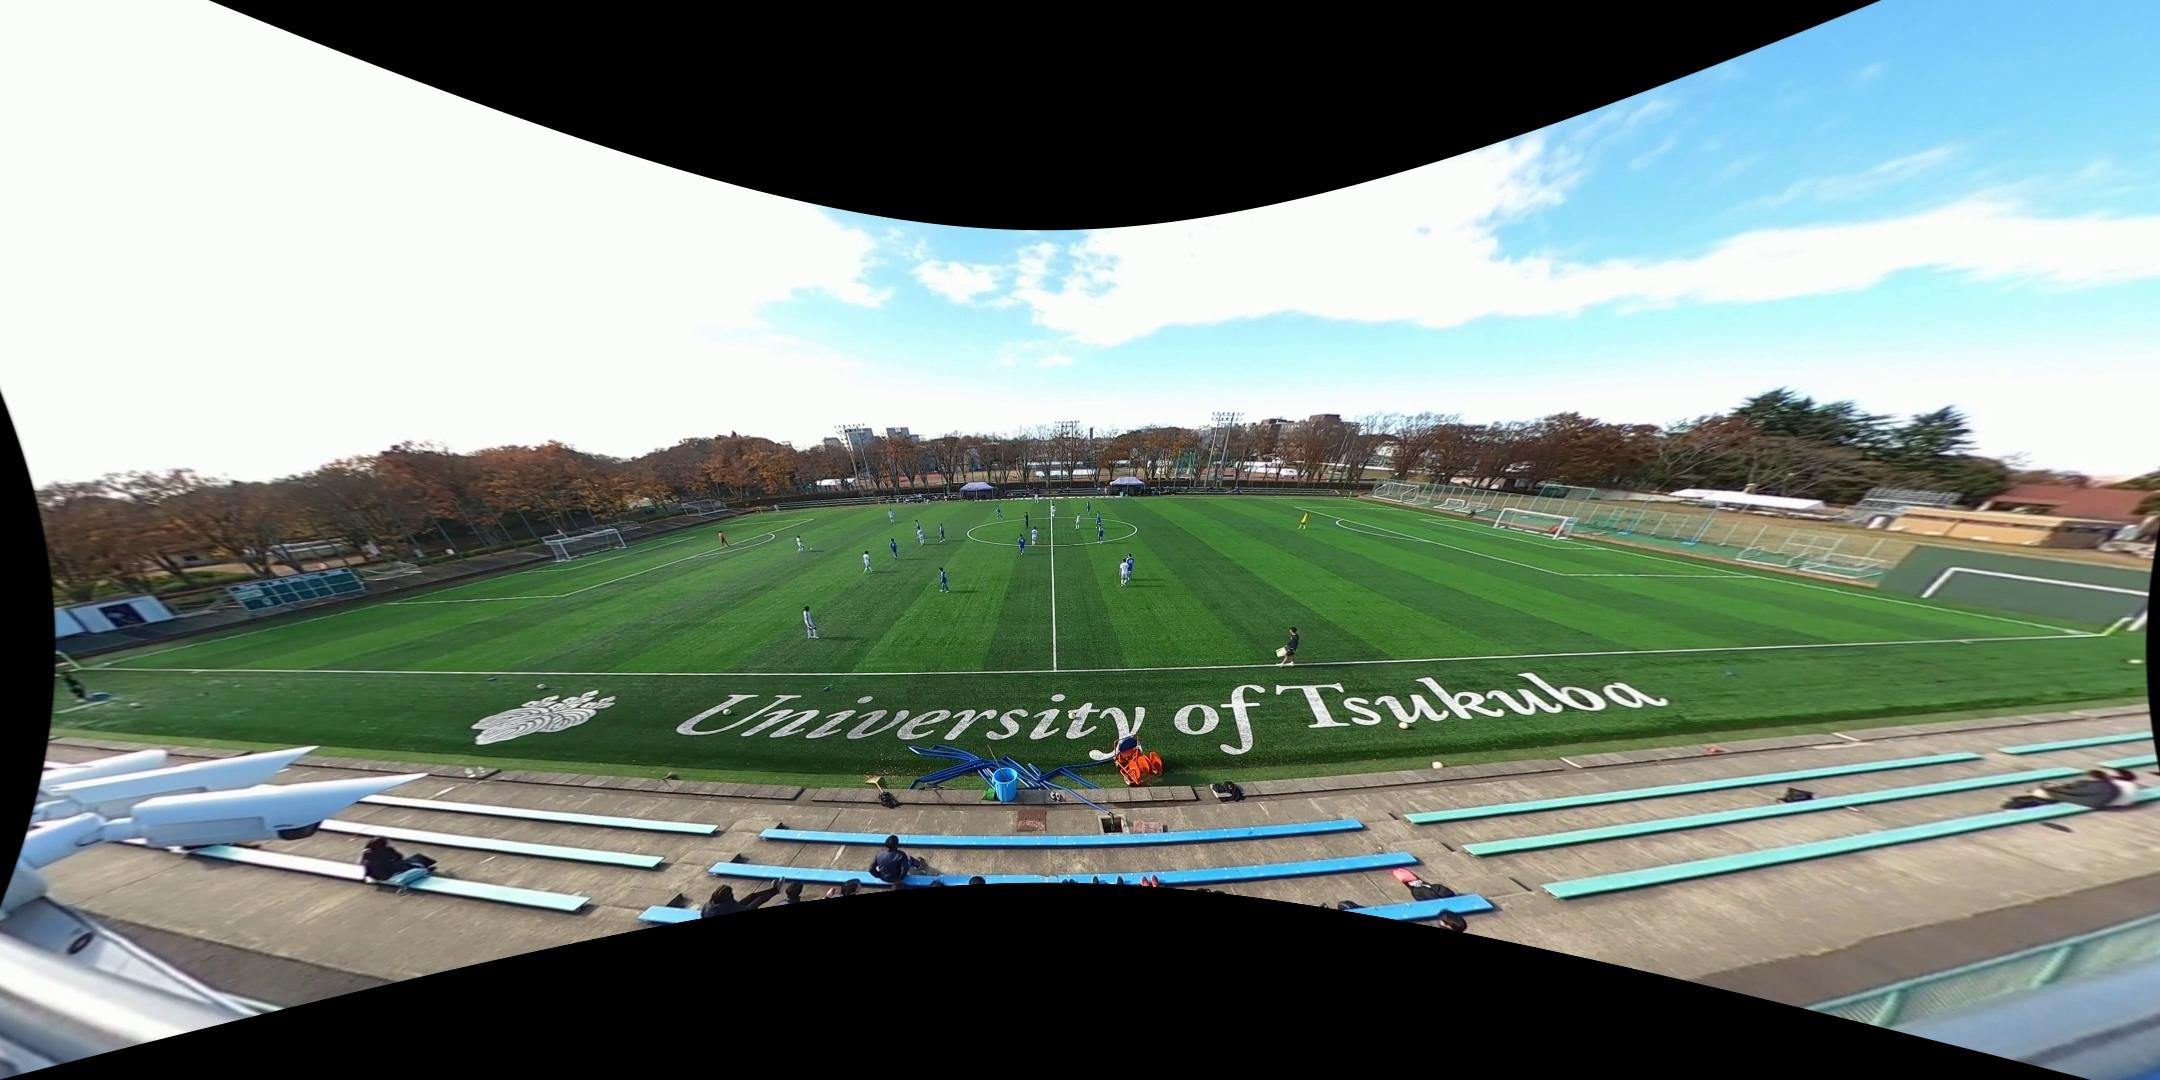person: (1275, 626, 1299, 665), (804, 606, 817, 638), (1124, 551, 1135, 580), (1119, 559, 1129, 587), (888, 539, 900, 562), (1297, 509, 1309, 531), (939, 567, 948, 593), (794, 533, 805, 554), (717, 530, 728, 548), (912, 520, 923, 538), (863, 551, 871, 574), (1021, 512, 1031, 530), (1031, 525, 1039, 545), (1017, 534, 1025, 554), (937, 523, 945, 543), (887, 507, 895, 525), (1095, 525, 1104, 541), (1084, 499, 1092, 516), (917, 528, 924, 546), (995, 505, 1003, 520), (1050, 502, 1057, 518), (1075, 511, 1081, 528), (1096, 512, 1101, 529), (1033, 491, 1039, 504), (925, 494, 931, 506)
sports ball: (809, 545, 814, 551)
